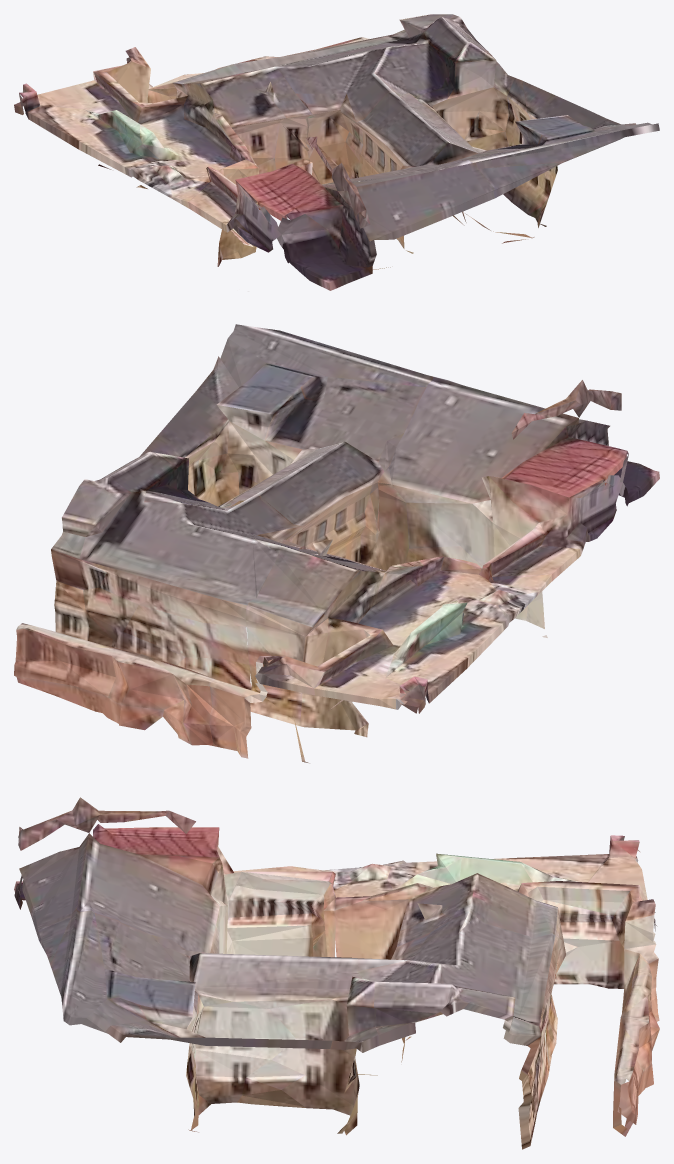
The picture shows the model from 3 angles, top to bottom: view 1: azimuth 30°, elevation 25°; view 2: azimuth 150°, elevation 25°; view 3: azimuth 270°, elevation 25°; orthographic projection. The views are drawn at different scales.
Visible parts, largest first — view 1: Mesh_0; view 2: Mesh_0; view 3: Mesh_0.
Boxes of the visible parts, left/top/right/bottom form: Mesh_0: left=14, top=14, right=659, bottom=291; Mesh_0: left=14, top=324, right=659, bottom=763; Mesh_0: left=14, top=797, right=659, bottom=1149.
Bounding box in the file's own units: 33.32 × 13.41 × 39.37.
Materials: 1 (1 with a texture image).
